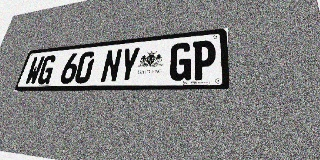0: (73, 51, 96, 84)
6: (59, 53, 81, 84)
G: (168, 42, 192, 81), (36, 55, 58, 85)
N: (100, 48, 123, 83)
P: (191, 40, 216, 80)
W: (24, 56, 45, 85)
Y: (117, 47, 141, 82)
